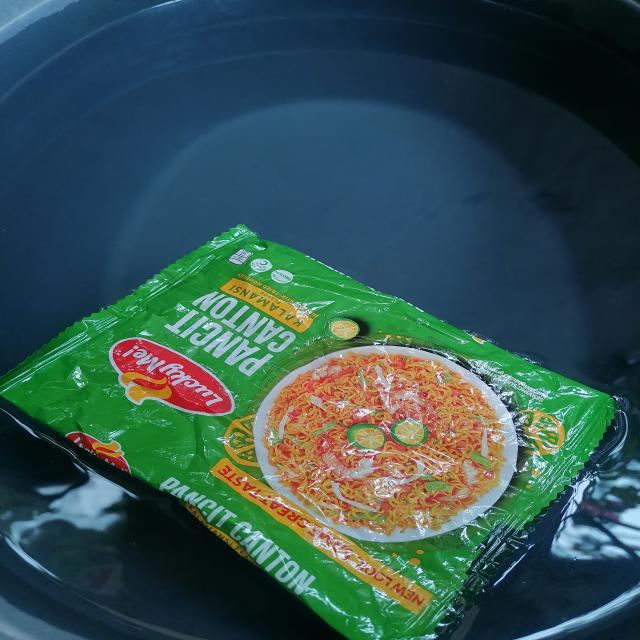Plastic Wrapper: (0, 225, 629, 640)
